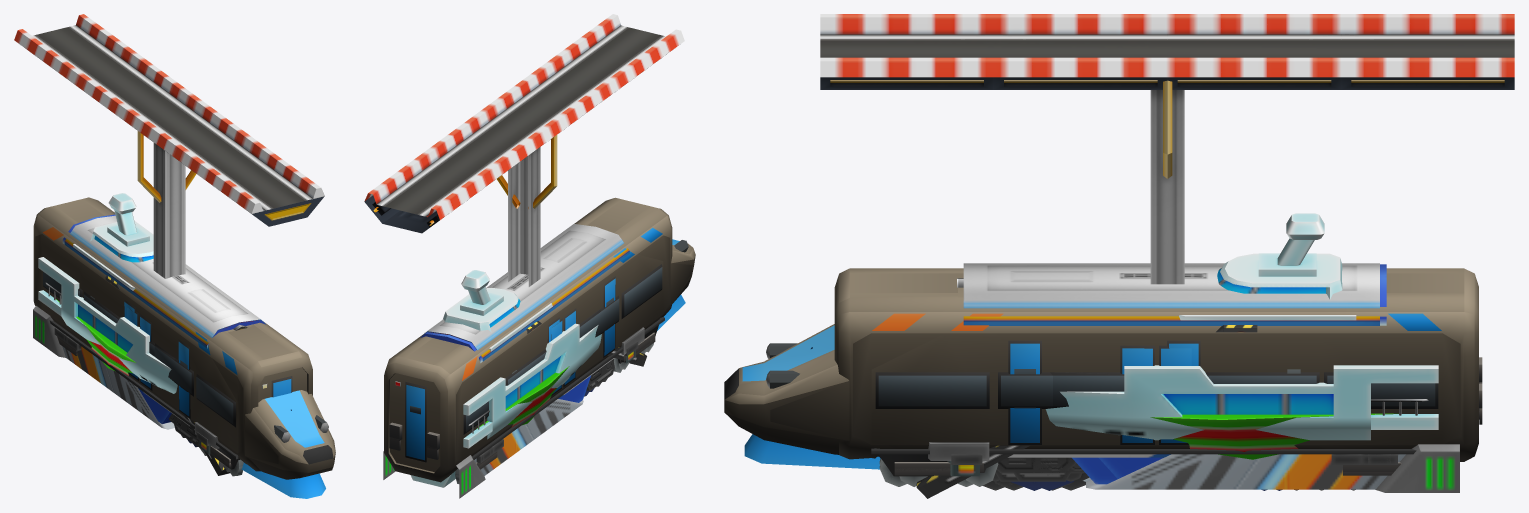
The model's file is Obstructions.FBX.
3 renders of one model, left to right at view 1: azimuth 30°, elevation 25°; view 2: azimuth 150°, elevation 25°; view 3: azimuth 270°, elevation 25°, orthographic. The views are drawn at different scales.
Parts seen in each view (by area): view 1: HighRoadPath, TrainCartNewA01, TrainCartNewA02, BoatBig01, TrainBody02, HighRoadColumn, Ramp04, TrainCartNewA03, BoatSmall01, TrainBody01, TrainHead01, Ramp01; view 2: HighRoadPath, TrainCartNewA02, TrainCartNewA01, BoatBig01, TrainBody02, HighRoadColumn, Ramp04, TrainCartNewA03, TrainBody01, BoatSmall01, TrainHead01; view 3: TrainCartNewA01, HighRoadPath, TrainCartNewA02, BoatBig01, TrainBody02, Ramp04, HighRoadColumn, TrainCartNewA03, BoatSmall01, TrainHead01, TrainBody01, Ramp01.
Boxes of the visible parts, x1,y1,x2,y2 form: HighRoadPath: [14, 14, 324, 226]; TrainCartNewA01: [35, 198, 335, 498]; TrainCartNewA02: [33, 197, 312, 476]; BoatBig01: [38, 193, 195, 393]; TrainBody02: [57, 215, 265, 445]; HighRoadColumn: [137, 131, 196, 278]; Ramp04: [33, 306, 174, 429]; TrainCartNewA03: [49, 296, 242, 476]; BoatSmall01: [56, 299, 135, 375]; TrainBody01: [54, 214, 265, 446]; TrainHead01: [67, 336, 219, 451]; Ramp01: [105, 275, 229, 475]; HighRoadPath: [364, 14, 684, 233]; TrainCartNewA02: [384, 197, 672, 482]; TrainCartNewA01: [389, 239, 695, 481]; BoatBig01: [410, 270, 601, 487]; TrainBody02: [423, 224, 638, 461]; HighRoadColumn: [497, 135, 557, 286]; Ramp04: [383, 399, 583, 498]; TrainCartNewA03: [389, 317, 664, 483]; TrainBody01: [420, 332, 637, 463]; BoatSmall01: [477, 366, 569, 428]; TrainHead01: [492, 327, 644, 453]; TrainCartNewA01: [724, 268, 1481, 486]; HighRoadPath: [820, 14, 1514, 89]; TrainCartNewA02: [834, 268, 1482, 482]; BoatBig01: [1045, 213, 1438, 440]; TrainBody02: [951, 263, 1390, 490]; Ramp04: [1083, 444, 1459, 492]; HighRoadColumn: [1150, 80, 1184, 284]; TrainCartNewA03: [871, 369, 1482, 486]; BoatSmall01: [1150, 413, 1398, 459]; TrainHead01: [928, 442, 1361, 490]; TrainBody01: [952, 264, 1397, 490]; Ramp01: [916, 325, 1257, 498].
Bounding box in the file's own units: 635 × 2138 × 3489.
